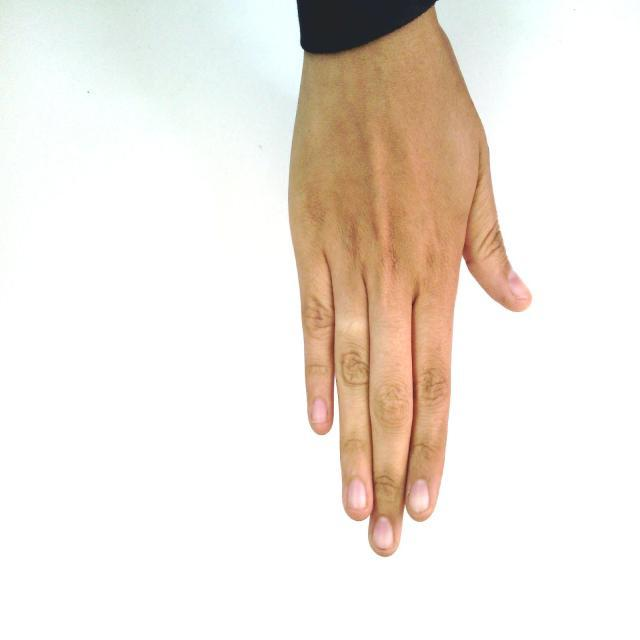Fingernail: (409, 479, 430, 513), (373, 517, 393, 549), (347, 479, 367, 509), (510, 271, 532, 297), (311, 398, 328, 423)
